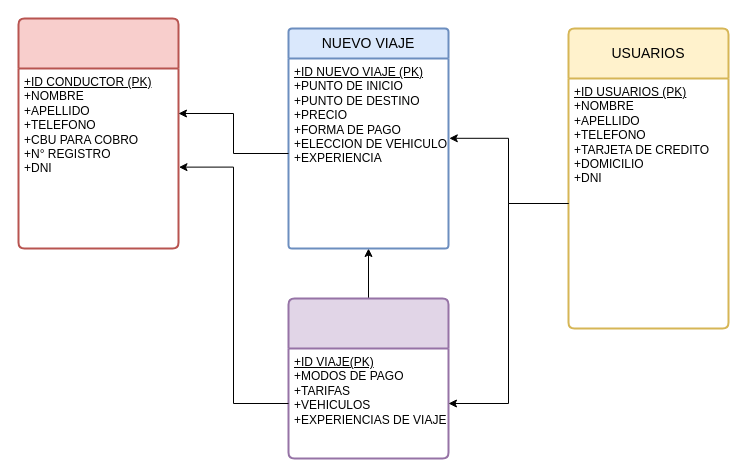
This 746x476 diagram has some shape labels left out. Each missing label, with the box of its shape:
CONDUCTORES: (17, 17, 179, 249)
UBER: (287, 297, 449, 459)
